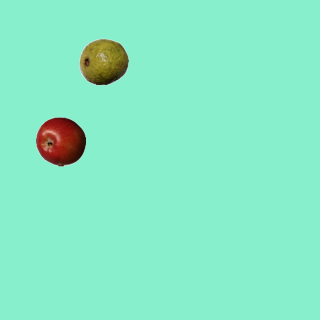Apple Braeburn: (35, 116, 85, 166)
Guava: (78, 36, 128, 86)
